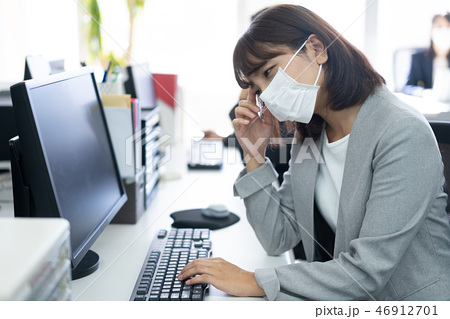mask: (259, 67, 318, 125)
